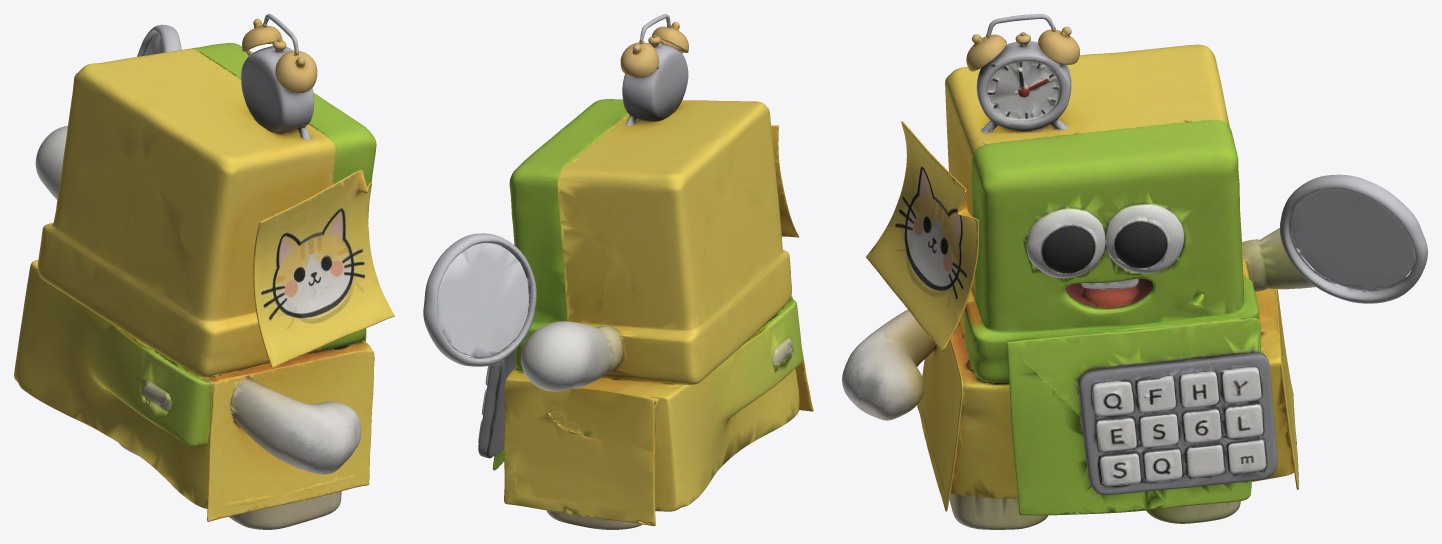
File: mascot-web.glb
3 renders of one model, left to right at view 1: azimuth 30°, elevation 25°; view 2: azimuth 150°, elevation 25°; view 3: azimuth 270°, elevation 25°, orthographic. The views are drawn at different scales.
Parts seen in each view (by area): view 1: tripo_node_ea874548-ab8c-48ad-8e02-9094840efcf1; view 2: tripo_node_ea874548-ab8c-48ad-8e02-9094840efcf1; view 3: tripo_node_ea874548-ab8c-48ad-8e02-9094840efcf1.
Boxes of the visible parts, x1,y1,x2,y2 form: tripo_node_ea874548-ab8c-48ad-8e02-9094840efcf1: (14,14,394,529); tripo_node_ea874548-ab8c-48ad-8e02-9094840efcf1: (423,14,813,529); tripo_node_ea874548-ab8c-48ad-8e02-9094840efcf1: (842,14,1427,529).
Size of the model in its own units: 0.4953 by 0.9207 by 0.9794.
Materials: 1 (1 with a texture image).
